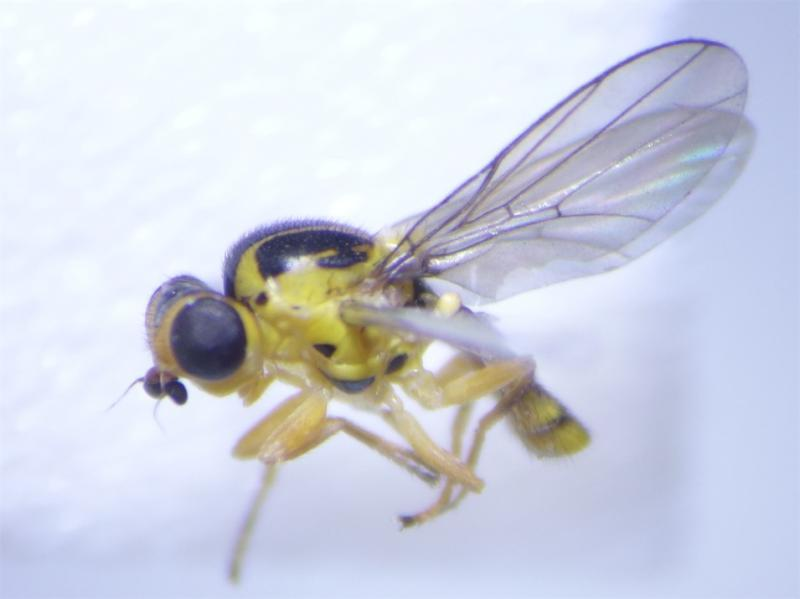Chloropidae: (117, 24, 757, 582)
